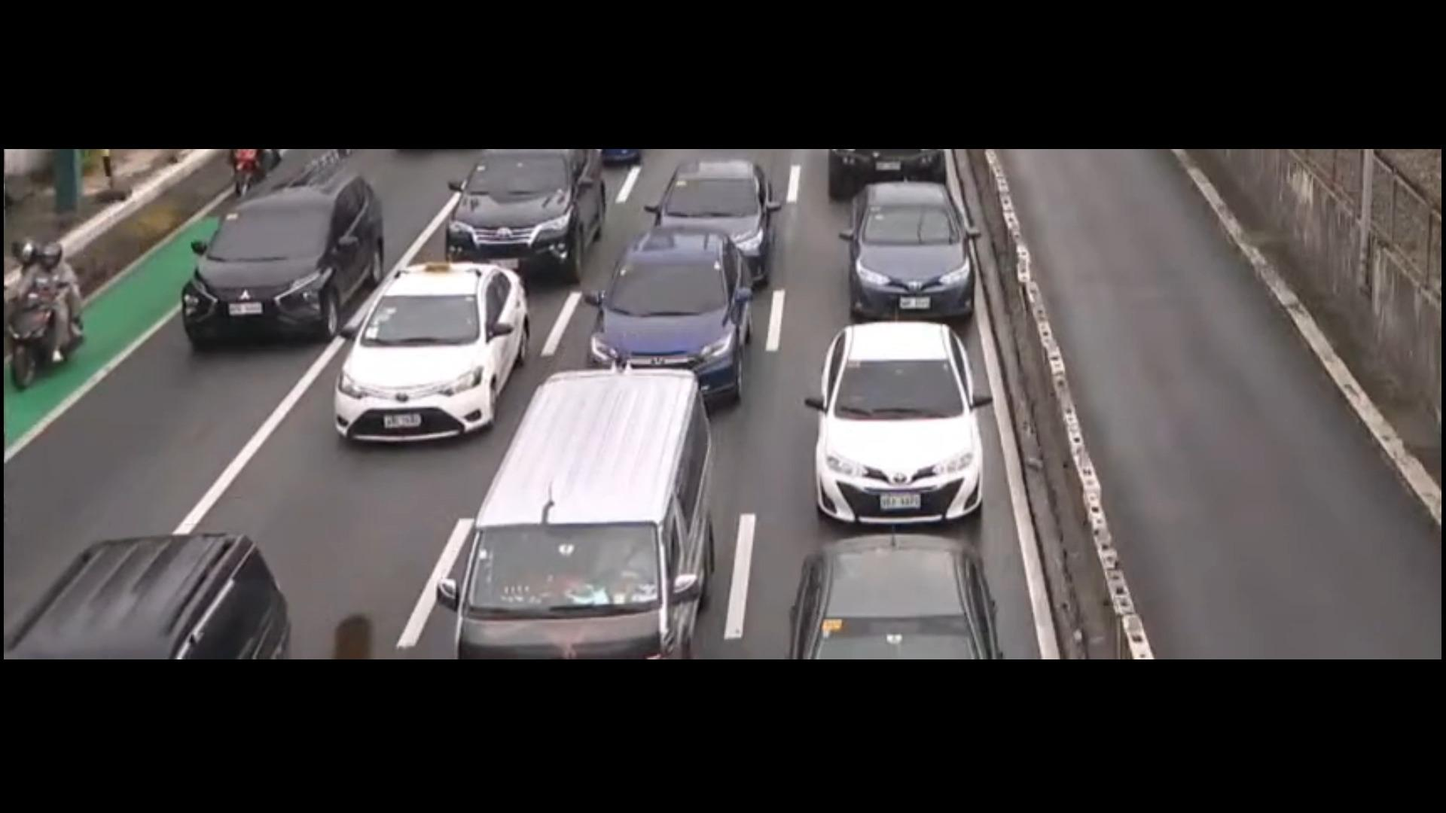Motorcycle: (0, 213, 96, 409)
SUV: (163, 147, 390, 361), (594, 224, 761, 403), (443, 151, 610, 290)
Sedan: (326, 262, 554, 447), (802, 317, 1004, 517), (844, 166, 983, 319), (657, 158, 773, 266)
Van: (448, 362, 716, 659)
